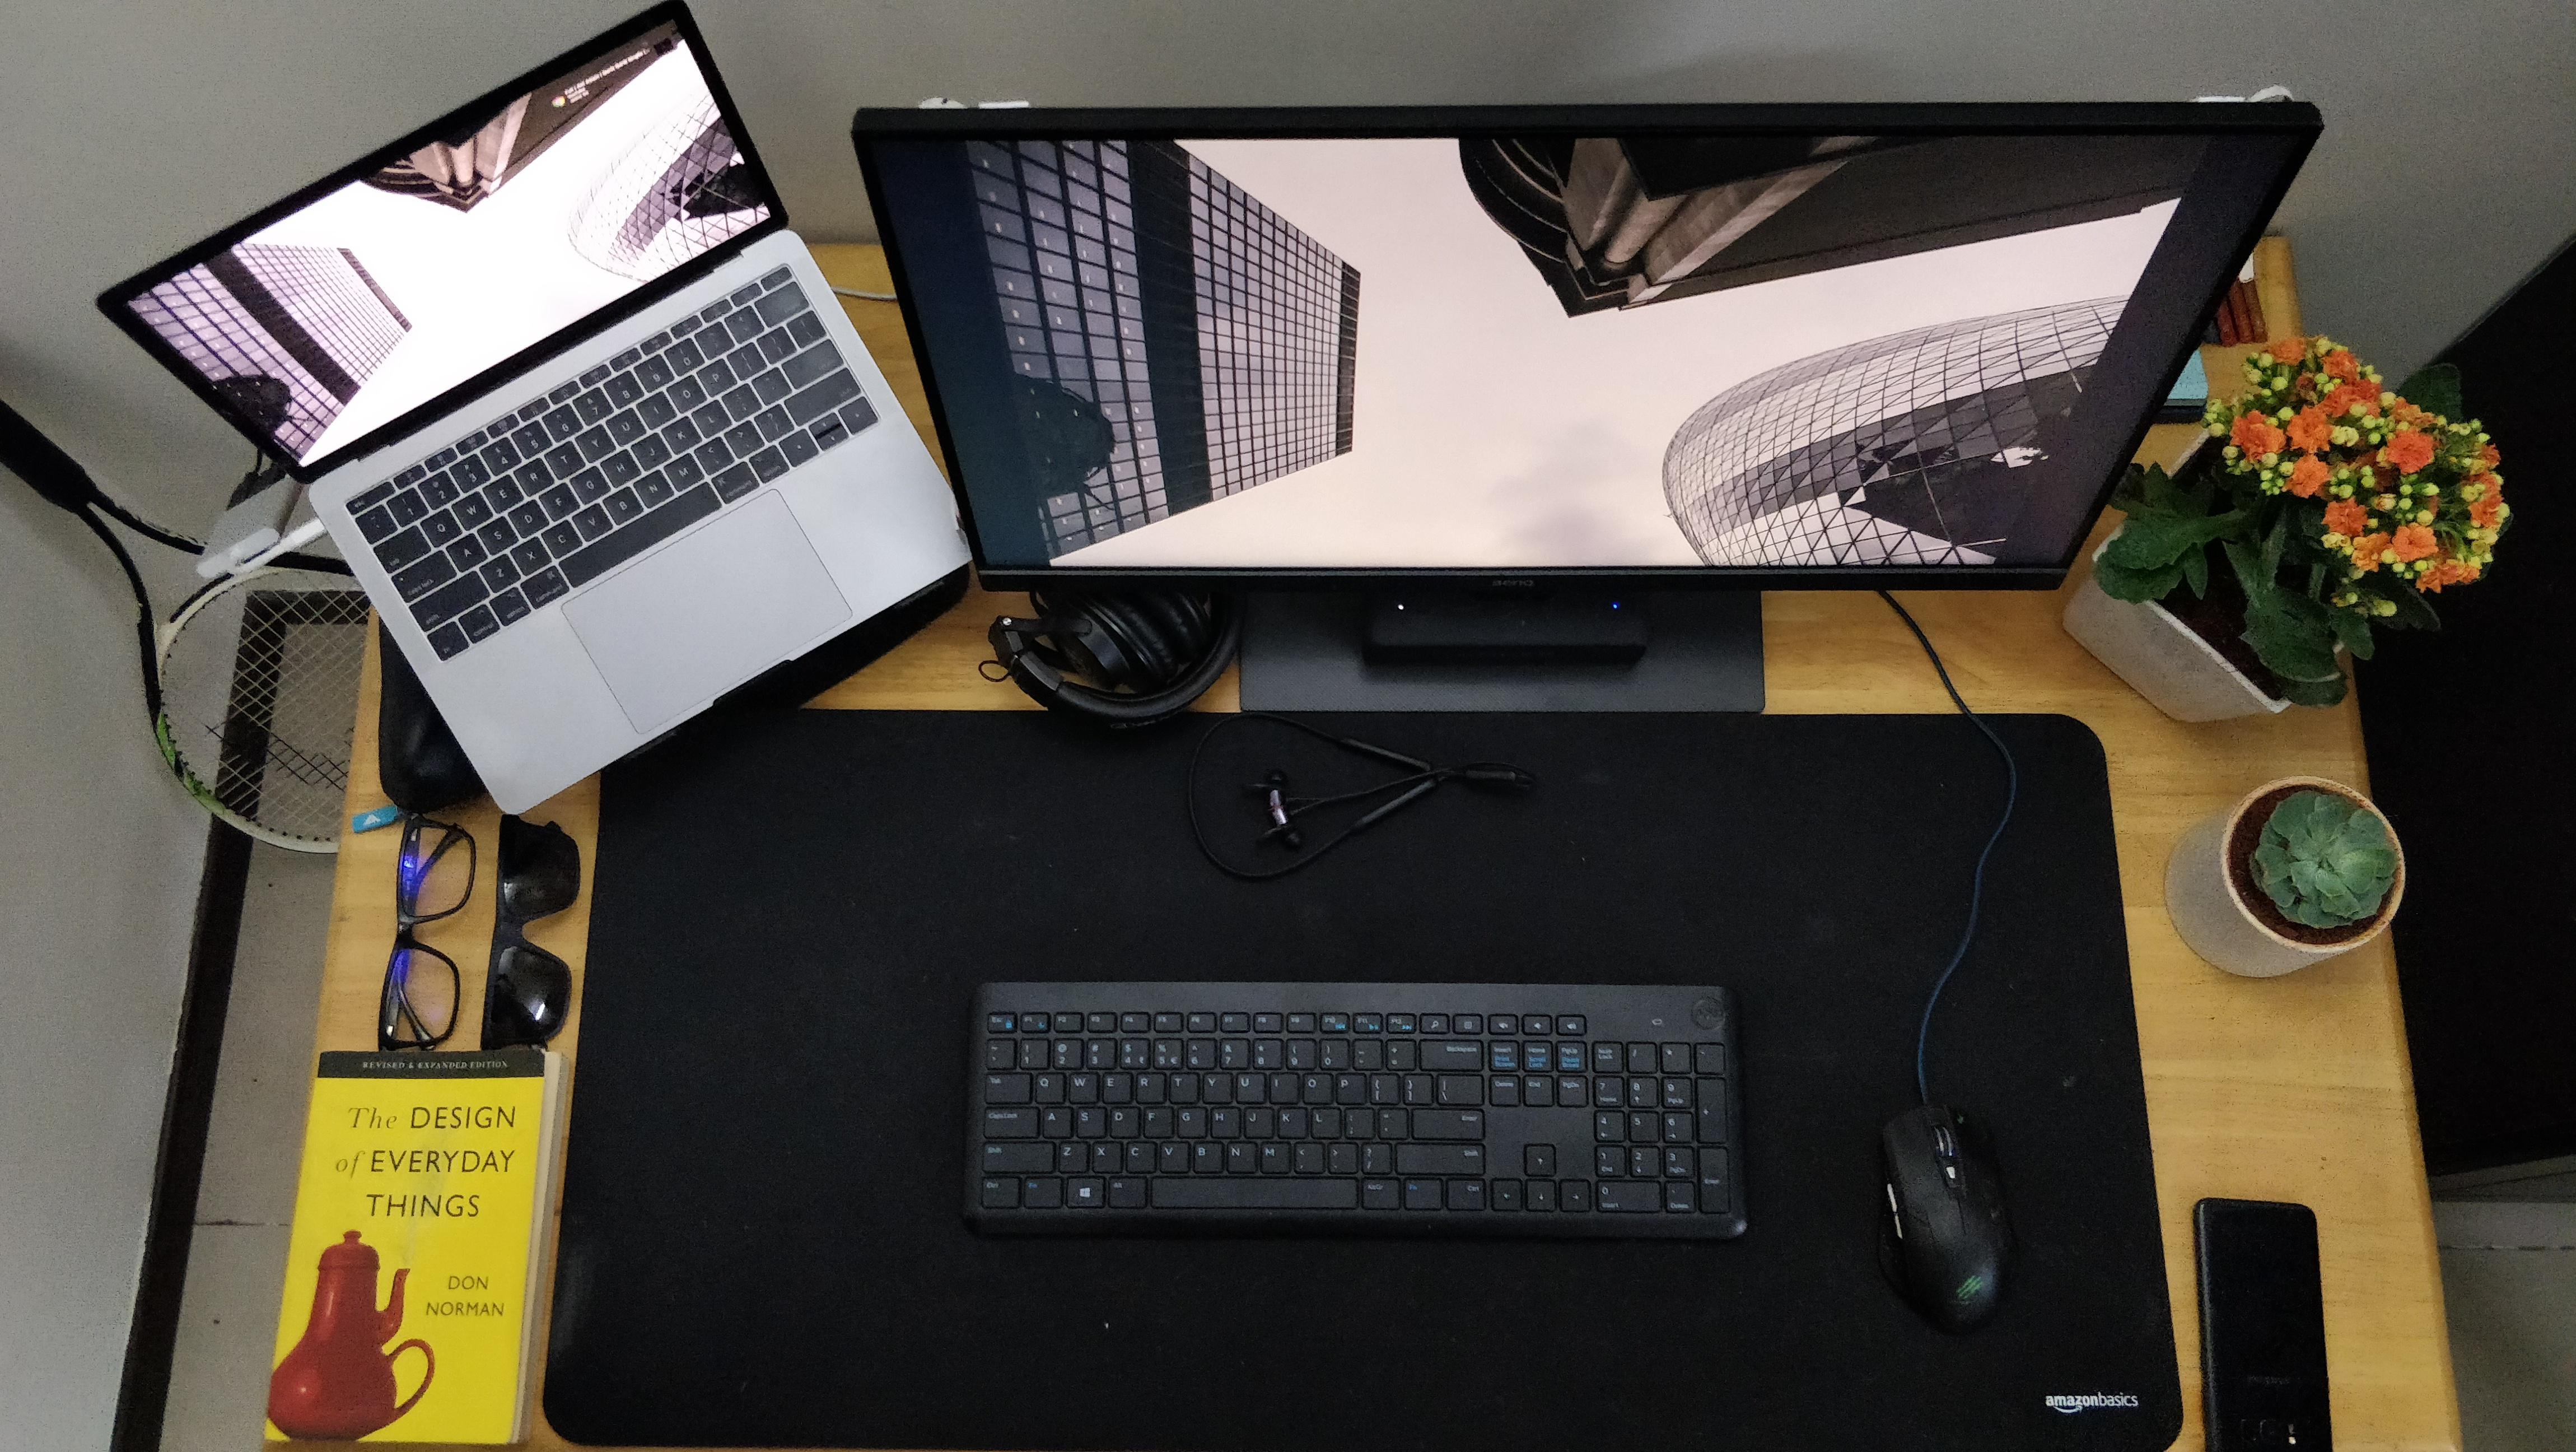Book: (265, 1050, 568, 1443)
Cellphone: (2190, 1199, 2335, 1452)
Decoration (Miniature): (2051, 336, 2514, 730), (2164, 777, 2408, 986)
Desk (Generic): (267, 234, 2459, 1452)
Earphones: (1189, 714, 1534, 885)
Headphones: (985, 588, 1240, 733)
Keyboard (Generic): (964, 970, 1753, 1247)
Laptop (Windows): (99, 0, 978, 818)
Mouse (Gaming): (1870, 1107, 2019, 1339)
Mousepad (Gaming): (541, 705, 2187, 1452)
Printer: (849, 97, 2325, 708)
